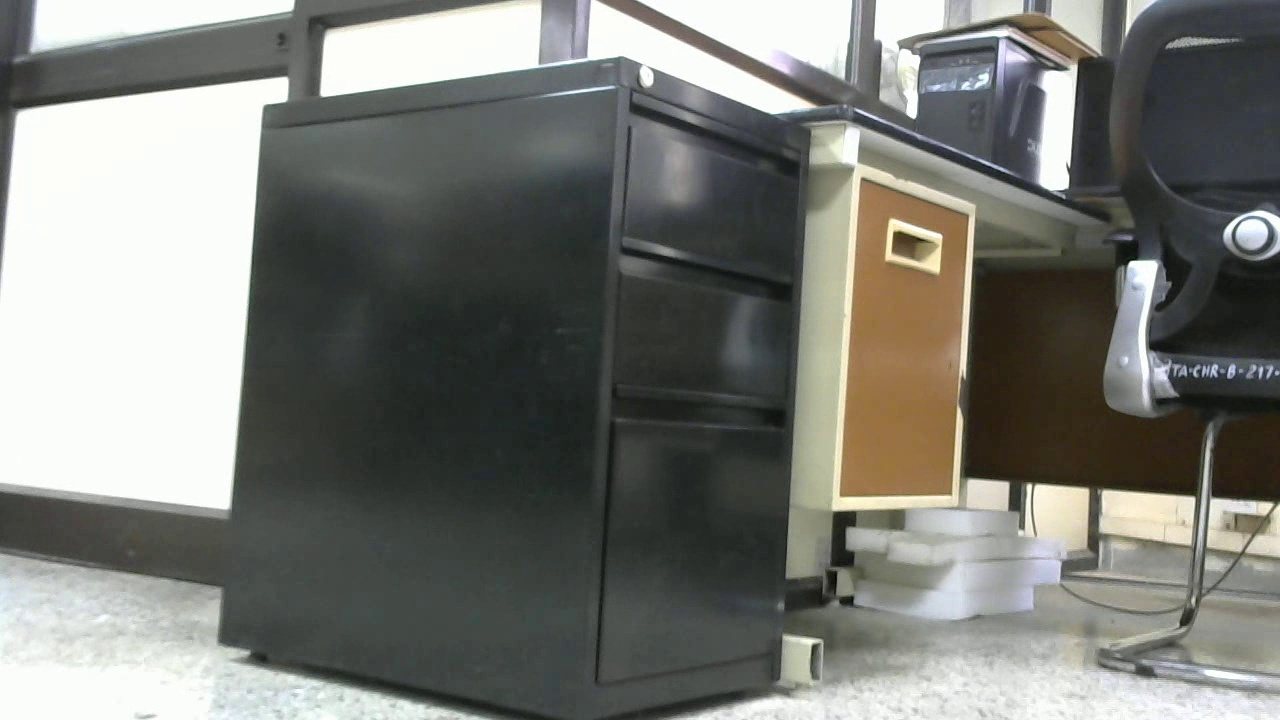chair: (1099, 2, 1280, 693)
